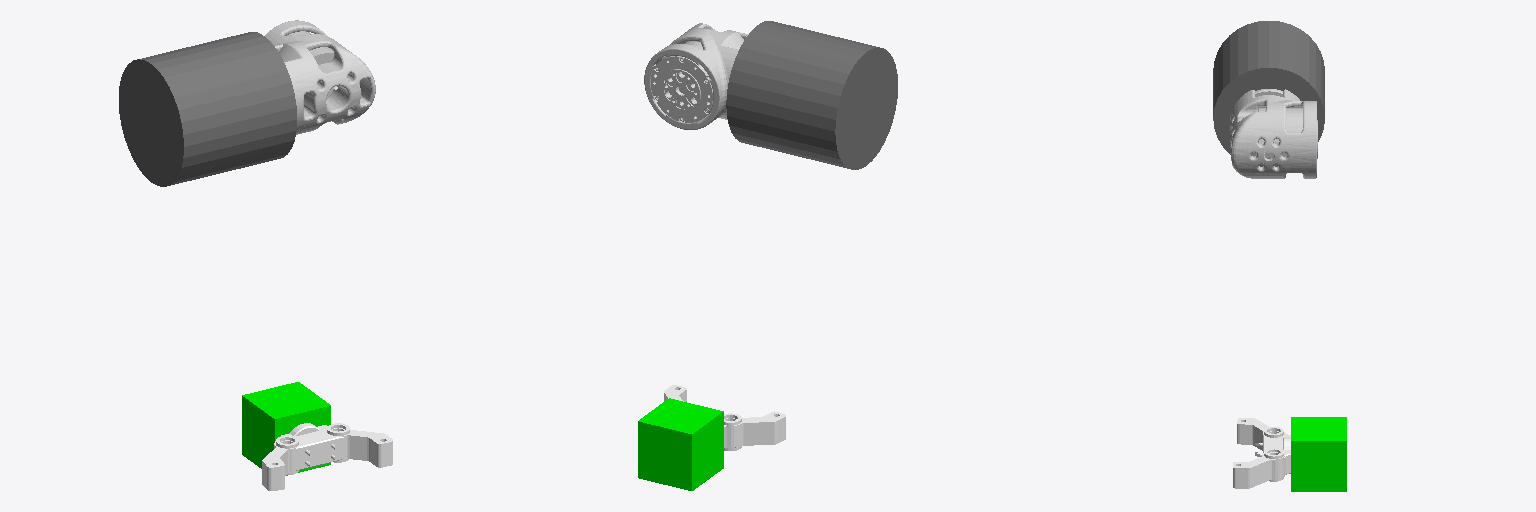
The robot description file, URDF, robot "4LEGS":
<?xml version="1.0" encoding="utf-8"?>
<!-- This URDF was automatically created by SolidWorks to URDF Exporter! Originally created by [author] ([email redacted]) 
     Commit Version: 1.6.0-1-g15f4949  Build Version: 1.6.7594.29634
     For more information, please see http://wiki.ros.org/sw_urdf_exporter -->
<robot
  name="4LEGS">
  <link name="world" />
  
   <link name="base_link">
   <inertial>
      <origin xyz="0 0 0" rpy="0 0 0"/>
      <mass value="1.0"/>
      <inertia ixx="0.001" ixy="0.0" ixz="0.0"
               iyy="0.001" iyz="0.0"
               izz="0.001"/>
    </inertial>
    <visual>
      <origin xyz="0 0 0" rpy="0 1.57 0" />
      <geometry>
        <cylinder radius="0.05" length="0.1"/>
      </geometry>
      <material name="gray">
        <color rgba="0.5 0.5 0.5 1"/>
      </material>
    </visual>
    <collision>
      <origin xyz="0 0 0" rpy="0 0 0"/>
      <geometry>
        <cylinder radius="0.05" length="0.1"/>
      </geometry>
    </collision>
    
  </link>

  <joint
    name="world_joint"
    type="fixed">
    <origin
      xyz="0 0 0.5"
      rpy="0 0 0" />
    <parent
      link="world" />
    <child
      link="base_link" />
  </joint>

  <link
    name="FL_Link1">
    <inertial>
      <origin
        xyz="0.0075413919439275 4.56405399566415E-05 0.0386082778283537"
        rpy="0 0 0" />
      <mass
        value="0.252436609586893" />
      <inertia
        ixx="0.000163602528163614"
        ixy="1.58043916114717E-08"
        ixz="2.36465968243228E-06"
        iyy="0.000165919288048051"
        iyz="1.84763723768625E-08"
        izz="0.000147114667869166" />
    </inertial>
    <visual>
      <origin
        xyz="0 0 0"
        rpy="0 0 0" />
      <geometry>
        <mesh
          filename="package://4LEGS/meshes/FL_Link1.STL" />
      </geometry>
      <material
        name="">
        <color
          rgba="0.854901960784314 0.854901960784314 0.854901960784314 1" />
      </material>
    </visual>
    <collision>
      <origin
        xyz="0 0 0"
        rpy="0 0 0" />
      <geometry>
        <mesh
          filename="package://4LEGS/meshes/FL_Link1.STL" />
      </geometry>
    </collision>
  </link>
  <joint
    name="FL_Joint1"
    type="revolute">
    <origin
      xyz="0.05 0 0"
      rpy="1.5708 0 1.5708" />
    <parent
      link="base_link" />
    <child
      link="FL_Link1" />
    <axis
      xyz="0 0 -1" />
    <limit
      lower="-3.14"
      upper="3.14"
      effort="150"
      velocity="3.15" />
  </joint>
  <link
    name="FL_Link2">
    <inertial>
      <origin
        xyz="-1.97582917486824E-05 0.0478095355570258 0.00949795457524202"
        rpy="0 0 0" />
      <mass
        value="0.124068765230541" />
      <inertia
        ixx="8.21413695420164E-05"
        ixy="7.42550873664215E-09"
        ixz="-2.87315655585463E-08"
        iyy="3.44293186861105E-05"
        iyz="2.84563230119216E-06"
        izz="9.22150358483519E-05" />
    </inertial>
    <visual>
      <origin
        xyz="0 0 0"
        rpy="0 0 0" />
      <geometry>
        <mesh
          filename="package://4LEGS/meshes/FL_Link2.STL" />
      </geometry>
      <material
        name="">
        <color
          rgba="1 1 1 1" />
      </material>
    </visual>
    <collision>
      <origin
        xyz="0 0 0"
        rpy="0 0 0" />
      <geometry>
        <mesh
          filename="package://4LEGS/meshes/FL_Link2.STL" />
      </geometry>
    </collision>
  </link>
  <joint
    name="FL_Joint2"
    type="revolute">
    <origin
      xyz="0.0438 0 0.045"
      rpy="3.1416 -1.5708 0" />
    <parent
      link="FL_Link1" />
    <child
      link="FL_Link2" />
    <axis
      xyz="0 0 -1" />
    <limit
      lower="-3.14"
      upper="3.14"
      effort="150"
      velocity="3.15" />
  </joint>
  <link
    name="FL_Link3">
    <inertial>
      <origin
        xyz="5.11236795452605E-05 -0.0160034046894012 0.0367661864356854"
        rpy="0 0 0" />
      <mass
        value="0.154593914788053" />
      <inertia
        ixx="7.4828680209336E-05"
        ixy="4.10675604592304E-08"
        ixz="-2.91652138375772E-08"
        iyy="8.38192565835953E-05"
        iyz="8.98753675610467E-06"
        izz="6.20782589403699E-05" />
    </inertial>
    <visual>
      <origin
        xyz="0 0 0"
        rpy="0 0 0" />
      <geometry>
        <mesh
          filename="package://4LEGS/meshes/FL_Link3.STL" />
      </geometry>
      <material
        name="">
        <color
          rgba="1 1 1 1" />
      </material>
    </visual>
    <collision>
      <origin
        xyz="0 0 0"
        rpy="0 0 0" />
      <geometry>
        <mesh
          filename="package://4LEGS/meshes/FL_Link3.STL" />
      </geometry>
    </collision>
  </link>
  <joint
    name="FL_Joint3"
    type="revolute">
    <origin
      xyz="0 0.0979 0.01"
      rpy="1.5708 0 3.1416" />
    <parent
      link="FL_Link2" />
    <child
      link="FL_Link3" />
    <axis
      xyz="0 0 -1" />
    <limit
      lower="-3.14"
      upper="3.14"
      effort="150"
      velocity="3.15" />
  </joint>
  <link
    name="FL_Link4">
    <inertial>
      <origin
        xyz="0.000104614920250552 -0.0716988598988787 0.00473606463478796"
        rpy="0 0 0" />
      <mass
        value="0.145990873111669" />
      <inertia
        ixx="0.000190328503090644"
        ixy="7.71444238881416E-07"
        ixz="1.24048414118942E-07"
        iyy="3.62993303426488E-05"
        iyz="-1.86607654861886E-05"
        izz="0.000193244014013544" />
    </inertial>
    <visual>
      <origin
        xyz="0 0 0"
        rpy="0 0 0" />
      <geometry>
        <mesh
          filename="package://4LEGS/meshes/FL_Link4.STL" />
      </geometry>
      <material
        name="">
        <color
          rgba="1 1 1 1" />
      </material>
    </visual>
    <collision>
      <origin
        xyz="0 0 0"
        rpy="0 0 0" />
      <geometry>
        <mesh
          filename="package://4LEGS/meshes/FL_Link4.STL" />
      </geometry>
    </collision>
  </link>
  <joint
    name="FL_Joint4"
    type="revolute">
    <origin
      xyz="0 0.009 0.04"
      rpy="-1.5708 0 0" />
    <parent
      link="FL_Link3" />
    <child
      link="FL_Link4" />
    <axis
      xyz="0 0 -1" />
    <limit
      lower="-3.14"
      upper="3.14"
      effort="150"
      velocity="3.15" />
  </joint>
  <link
    name="FL_Link5">
    <inertial>
      <origin
        xyz="3.2512908206897E-05 -0.0023524621993824 0.0291397339160281"
        rpy="0 0 0" />
      <mass
        value="0.0964186497333119" />
      <inertia
        ixx="3.34159847686008E-05"
        ixy="4.71590899623191E-09"
        ixz="-3.57771116735319E-08"
        iyy="3.8865339643509E-05"
        iyz="3.7842639460347E-06"
        izz="2.76191794299111E-05" />
    </inertial>
    <visual>
      <origin
        xyz="0 0 0"
        rpy="0 0 0" />
      <geometry>
        <mesh
          filename="package://4LEGS/meshes/FL_Link5.STL" />
      </geometry>
      <material
        name="">
        <color
          rgba="1 1 1 1" />
      </material>
    </visual>
    <collision>
      <origin
        xyz="0 0 0"
        rpy="0 0 0" />
      <geometry>
        <mesh
          filename="package://4LEGS/meshes/FL_Link5.STL" />
      </geometry>
    </collision>
  </link>
  <joint
    name="FL_Joint5"
    type="revolute">
    <origin
      xyz="0 -0.1374 0"
      rpy="-1.5708 0 3.1416" />
    <parent
      link="FL_Link4" />
    <child
      link="FL_Link5" />
    <axis
      xyz="0 0 -1" />
    <limit
      lower="-3.14"
      upper="3.14"
      effort="150"
      velocity="3.15" />
  </joint>
  <link
    name="FL_Link6">
    <inertial>
      <origin
        xyz="-0.00033026 2.3415E-10 0.033535"
        rpy="0 0 0" />
      <mass
        value="0.081023" />
      <inertia
        ixx="1.9947E-05"
        ixy="-1.2843E-13"
        ixz="3.4852E-08"
        iyy="2.9441E-05"
        iyz="-4.6736E-13"
        izz="1.7748E-05" />
    </inertial>
    <visual>
      <origin
        xyz="0 0 0"
        rpy="0 0 0" />
      <geometry>
        <mesh
          filename="package://4LEGS/meshes/FL_Link6.STL" />
      </geometry>
      <material
        name="">
        <color
          rgba="1 1 1 1" />
      </material>
    </visual>
    <collision>
      <origin
        xyz="0 0 0"
        rpy="0 0 0" />
      <geometry>
        <mesh
          filename="package://4LEGS/meshes/FL_Link6.STL" />
      </geometry>
    </collision>
  </link>
  <joint
    name="FL_Joint6"
    type="revolute">
    <origin
      xyz="0 0.0184 0.035"
      rpy="-1.5708 0 0" />
    <parent
      link="FL_Link5" />
    <child
      link="FL_Link6" />
    <axis
      xyz="0 0 -1" />
    <limit
      lower="-3.14"
      upper="3.14"
      effort="150"
      velocity="3.15" />
  </joint>

<link name="link7">
    <inertial>
      <origin xyz="0 0 0" rpy="0 0 0" />
      <mass value="0.0001" />
      <inertia ixx="0.001" ixy="0" ixz="0" iyy="0.001" iyz="0" izz="0.001" />
    </inertial>
    <visual>
      <origin xyz="0 0 0" rpy="0 0 0" />
      <geometry>
        <!-- 示例使用一个立方体作为几何体，可根据需要替换为 mesh -->
        <box size="0.05 0.05 0.05"/>
      </geometry>
      <material name="link7_material">
        <color rgba="0 1 0 1"/>
      </material>
    </visual>
    <collision>
      <origin xyz="0 0 0" rpy="0 0 0" />
      <geometry>
        <box size="0.05 0.05 0.05"/>
      </geometry>
    </collision>
  </link>

  <joint name="joint7" type="fixed">
    <!-- 这里假设机械部件末端位于 link6 局部坐标系下沿正 Z 方向 0.1 米处，实际值请根据模型尺寸调整 -->
    <origin xyz="0 0 0" rpy="0 0 0"/>
    <parent link="FL_Link6"/>
    <child link="link7"/>
  </joint>
 
</robot> 

--- What the picture shows (computed from the rendered views, not written in the file) ---
Views: 3 orthographic renders of the robot side by side, from view 1: azimuth 30°, elevation 25°; view 2: azimuth 150°, elevation 25°; view 3: azimuth 270°, elevation 25°.
Robot: 4LEGS — 9 links, 8 joints (6 revolute, 2 fixed); root link world; default pose: every joint at zero.
Visible links, largest first — view 1: base_link, FL_Link1, FL_Link6, link7; view 2: base_link, FL_Link1, link7, FL_Link6; view 3: base_link, FL_Link1, link7, FL_Link6.
Boxes of the visible links, left/top/right/bottom form: base_link: left=119, top=32, right=296, bottom=186; FL_Link1: left=265, top=20, right=375, bottom=134; FL_Link6: left=262, top=423, right=392, bottom=490; link7: left=242, top=382, right=330, bottom=475; base_link: left=726, top=21, right=897, bottom=169; FL_Link1: left=644, top=23, right=748, bottom=129; link7: left=638, top=398, right=723, bottom=490; FL_Link6: left=664, top=385, right=785, bottom=450; base_link: left=1213, top=21, right=1324, bottom=154; FL_Link1: left=1230, top=89, right=1317, bottom=178; link7: left=1291, top=417, right=1346, bottom=491; FL_Link6: left=1233, top=418, right=1290, bottom=488.
Size in the robot's own frame: 0.1962 by 0.1194 by 0.3853 metres.
2 mesh visuals loaded from 6 distinct referenced files (2 binary STL); not drawn: 4 (reference not matched to a file when rendering).
